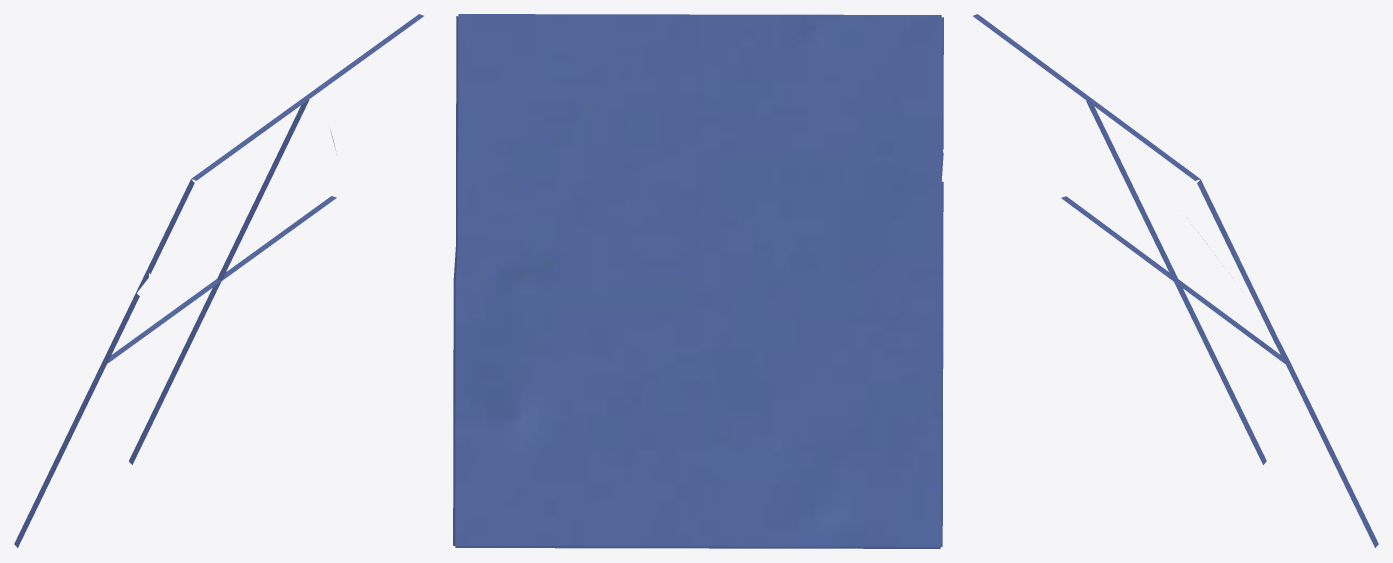
3 views of the same model, side by side, from view 1: azimuth 30°, elevation 25°; view 2: azimuth 150°, elevation 25°; view 3: azimuth 270°, elevation 25° (orthographic). The views are drawn at different scales.
Size of the model in its own units: 39437 by 36017 by 32328.
Materials: 1 (1 with a texture image).
